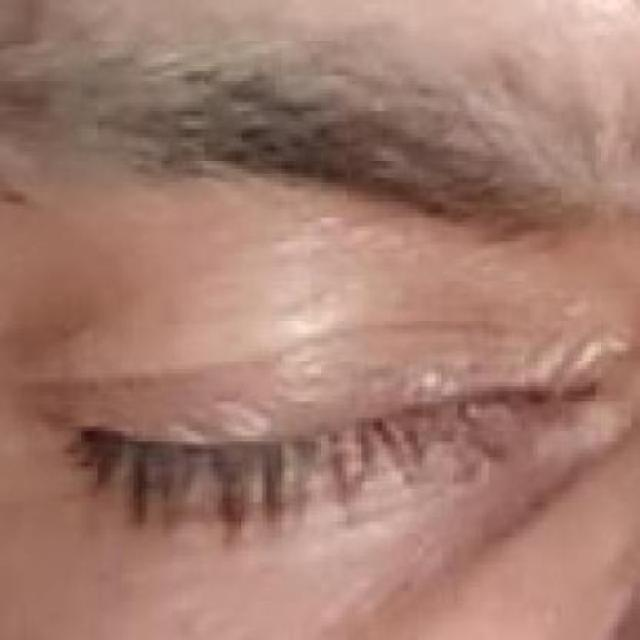drowsy: (50, 240, 568, 640)
